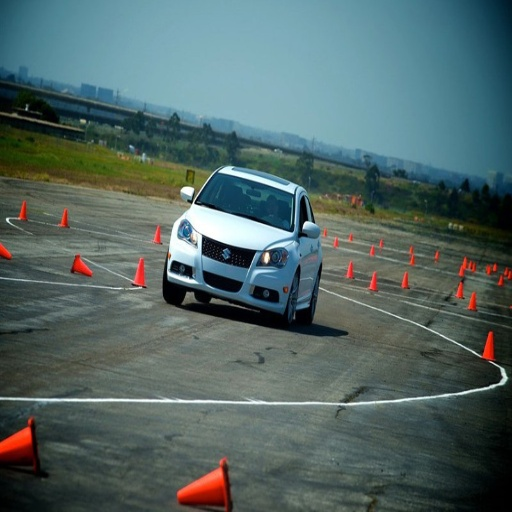front_bumper: (168, 241, 313, 311)
trunk: (67, 416, 141, 494)
